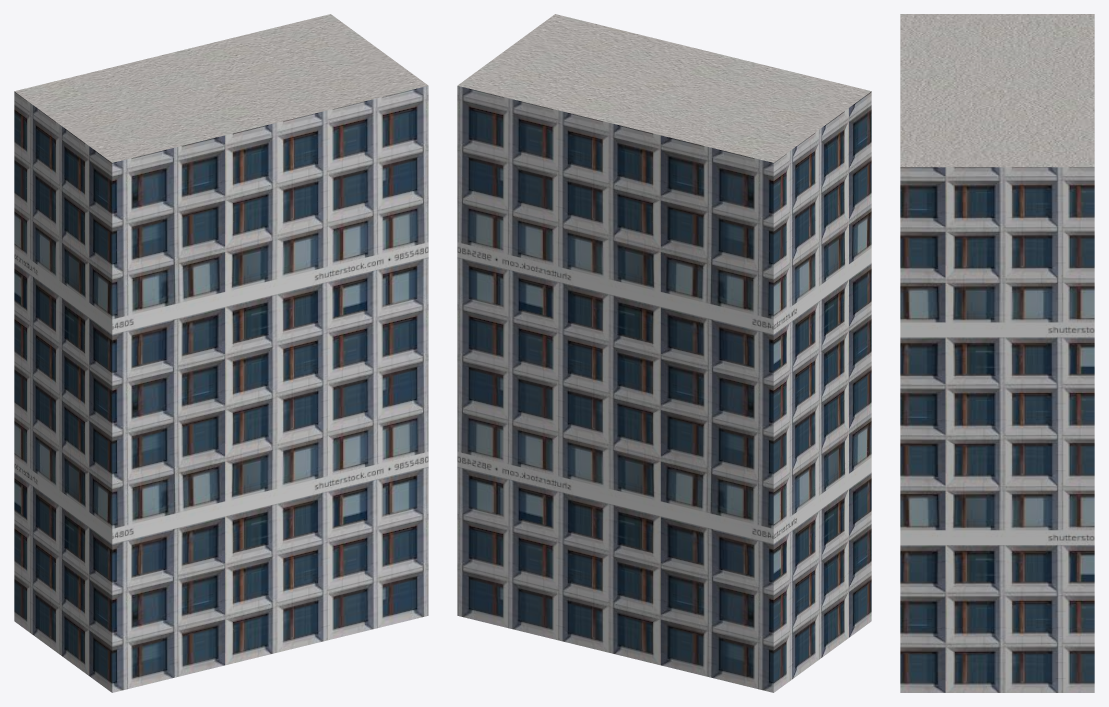
Rendered from building_005.fbx.
The picture shows the model from 3 angles, left to right: view 1: azimuth 30°, elevation 25°; view 2: azimuth 150°, elevation 25°; view 3: azimuth 270°, elevation 25°; orthographic projection.
Visible parts, largest first — view 1: building_005; view 2: building_005; view 3: building_005.
Boxes of the visible parts, box(x1,y1,x2,y2) form: building_005: box(14, 14, 428, 692); building_005: box(457, 14, 871, 692); building_005: box(900, 14, 1094, 692).
Size of the model in its own units: 1125 by 1800 by 603.
